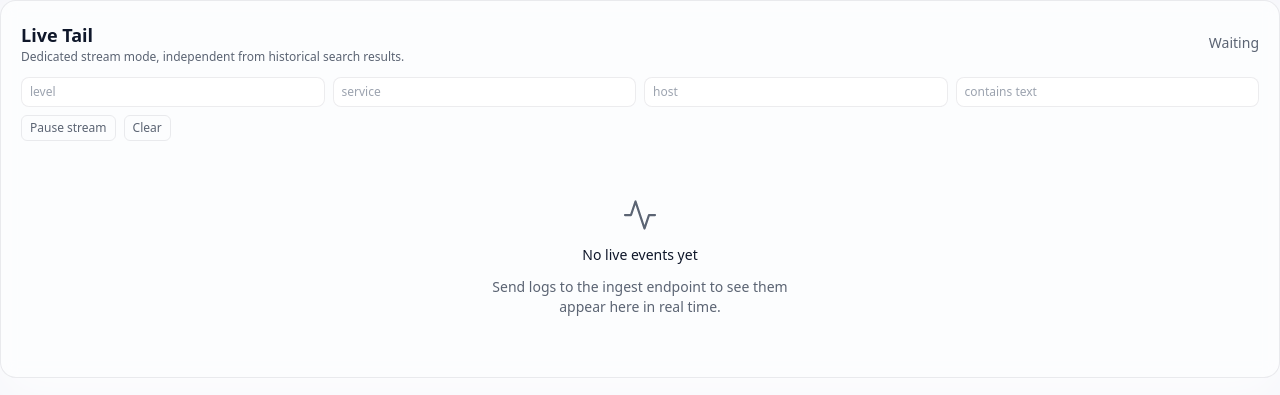
LiveTail: stream ticket › does not connect while paused, and connects with a new ticket on resume
The width and height of the screenshot is (1280, 395).
Later steps or results of the test are not shown.
Step 1. Click the button "Pause stream" → (68, 128), box [21, 115, 116, 141]
Wait 60000 ms
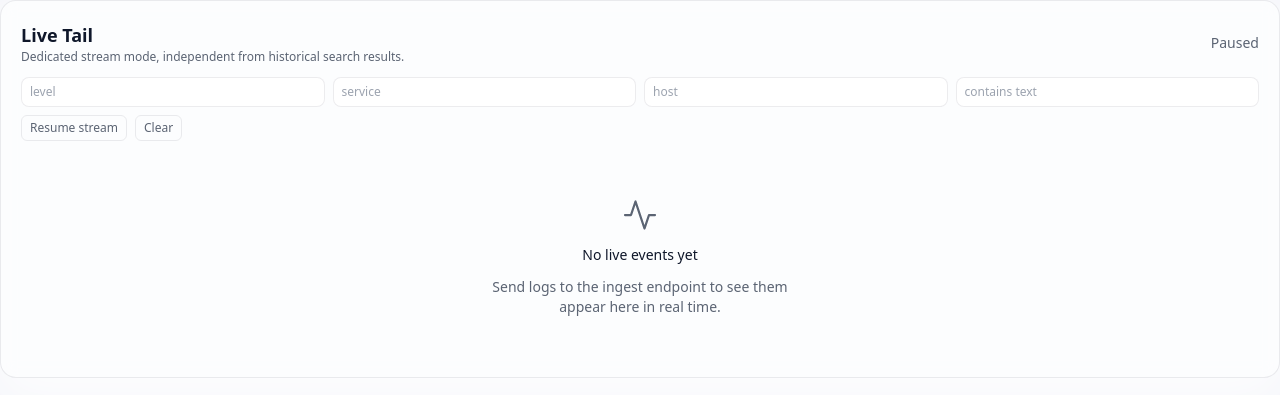
Now the text "Paused" is shown, box [1211, 33, 1259, 53]
